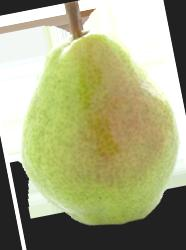Pear Unripe: (0, 0, 186, 245)
